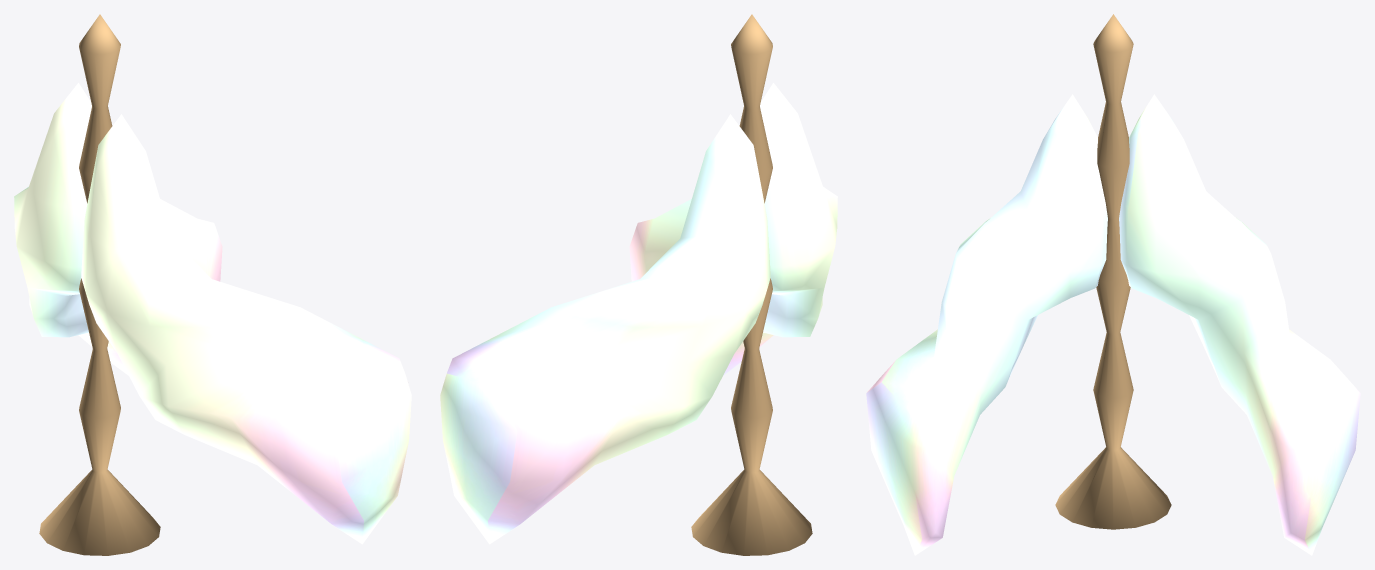
File: track2Building3.glb
3 renders of one model, left to right at view 1: azimuth 30°, elevation 25°; view 2: azimuth 150°, elevation 25°; view 3: azimuth 270°, elevation 25°, orthographic. The views are drawn at different scales.
Parts seen in each view (by area): view 1: track2building3; view 2: track2building3; view 3: track2building3.
Part boxes in pixels (left/top/right/bottom): track2building3: left=14, top=14, right=411, bottom=555; track2building3: left=440, top=14, right=837, bottom=555; track2building3: left=866, top=14, right=1360, bottom=555.
Size of the model in its own units: 2.69 by 4.95 by 4.52.
Materials: 2 (1 with a texture image).
